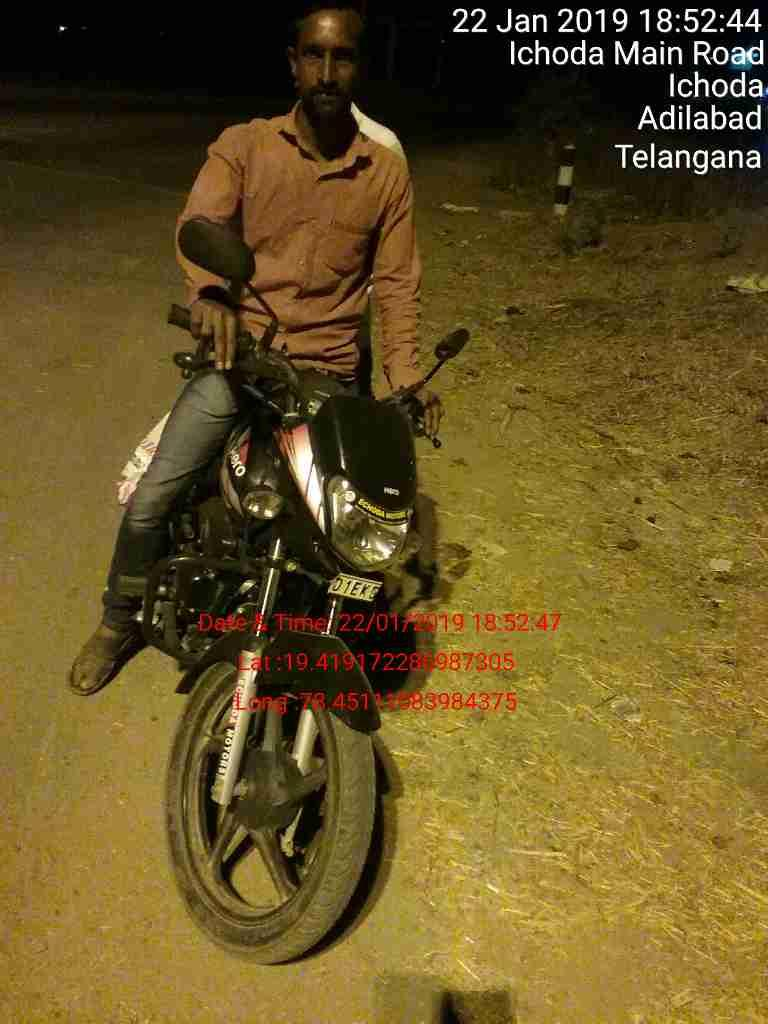plate: (304, 563, 391, 610)
